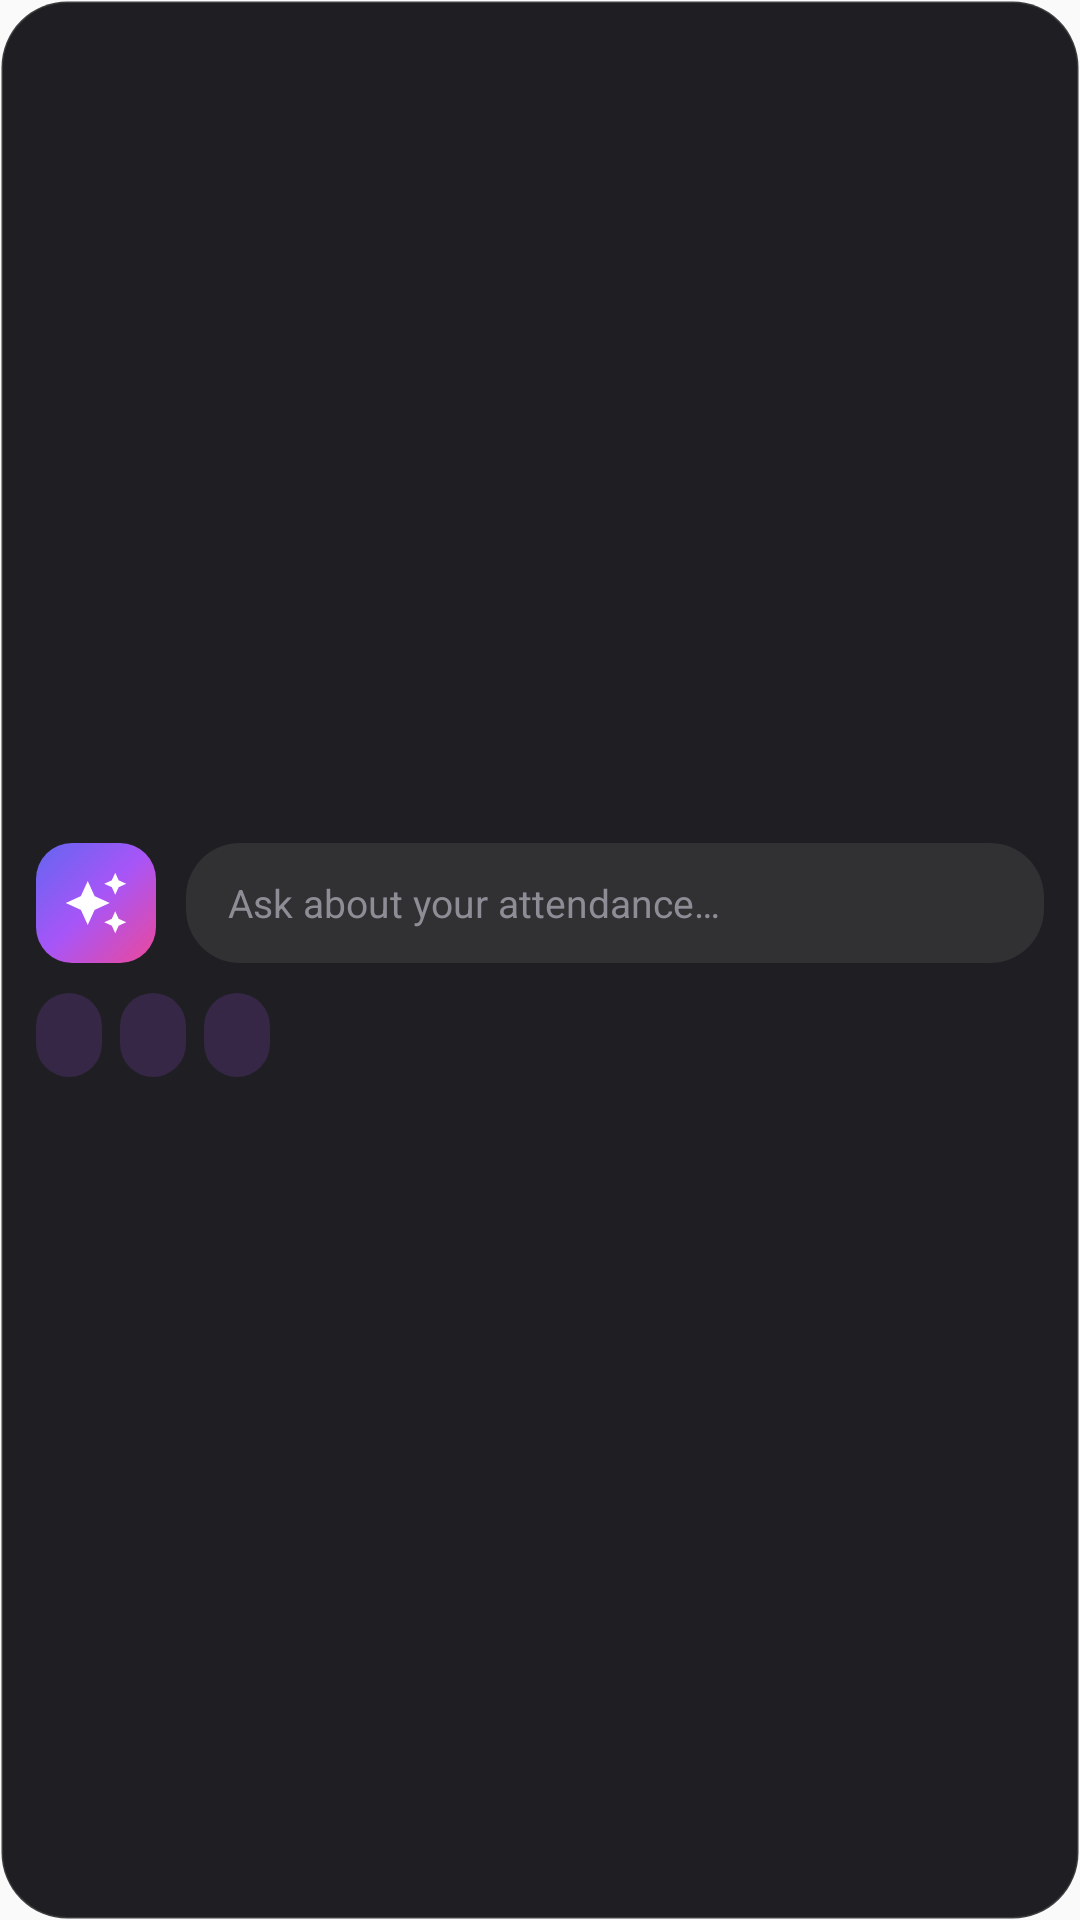

Where to tap for icons on this 1080 x 1920 app screen, as [x,y]:
widget sparkle: [96,903]
